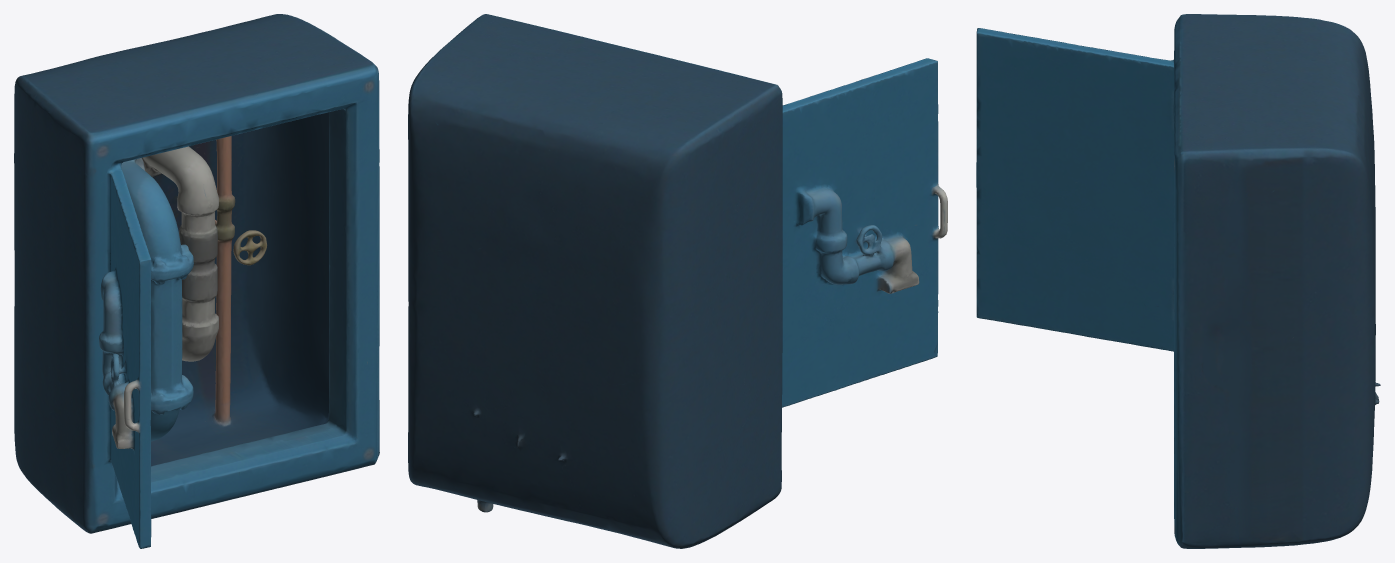
The model's file is CompuertaEstacionInundacion.glb.
The picture shows the model from 3 angles, left to right: view 1: azimuth 30°, elevation 25°; view 2: azimuth 150°, elevation 25°; view 3: azimuth 270°, elevation 25°; orthographic projection. The views are drawn at different scales.
Bounding box in the file's own units: 0.8544 × 0.9385 × 0.8477.
Materials: 1 (1 with a texture image).
